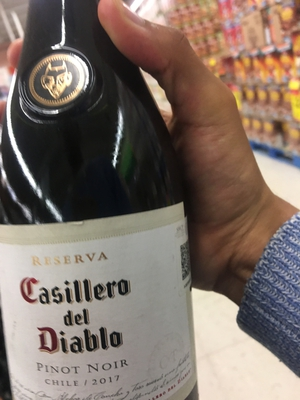casillero del diablo pinot noir: (4, 19, 191, 400)
